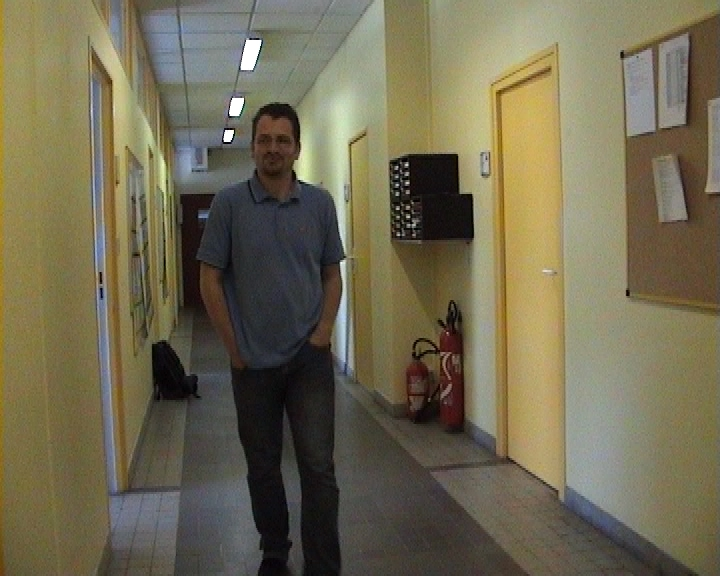leave bag unattended: (138, 327, 298, 494)
